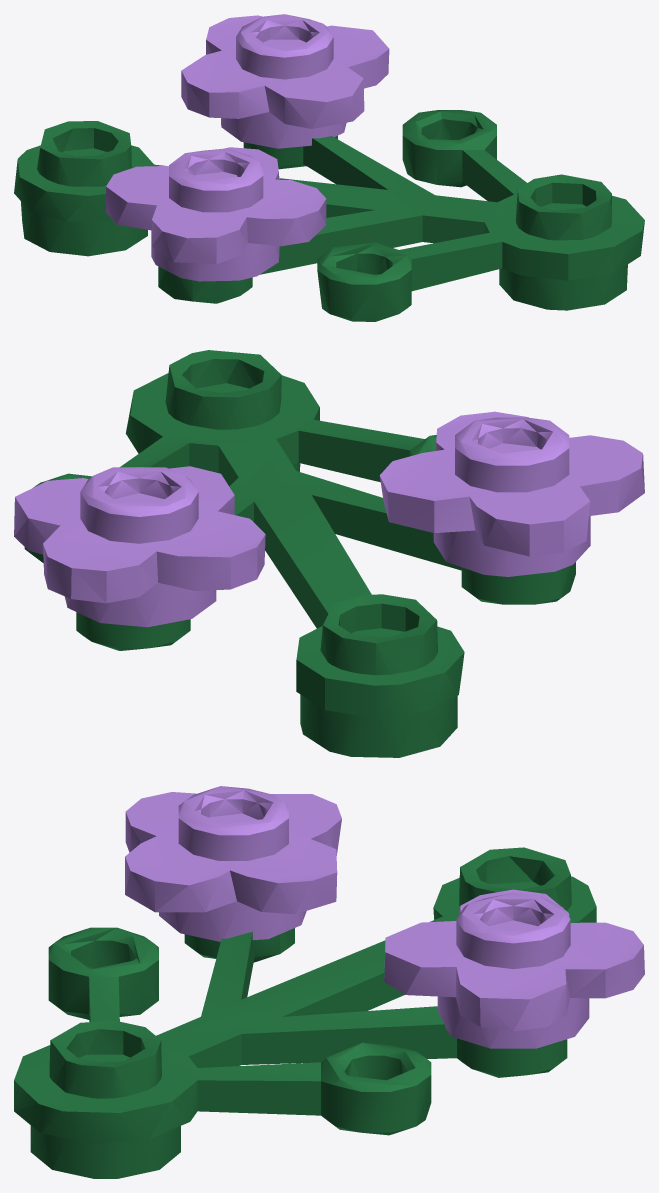
The model's file is frog_stem_a_purple.glb.
The picture shows the model from 3 angles, top to bottom: view 1: azimuth 30°, elevation 25°; view 2: azimuth 150°, elevation 25°; view 3: azimuth 270°, elevation 25°; orthographic projection. The views are drawn at different scales.
Visible parts, largest first — view 1: frog_stem_a_purple; view 2: frog_stem_a_purple; view 3: frog_stem_a_purple.
Boxes of the visible parts, left/top/right/bottom form: frog_stem_a_purple: left=14, top=14, right=644, bottom=321; frog_stem_a_purple: left=14, top=350, right=644, bottom=757; frog_stem_a_purple: left=14, top=786, right=644, bottom=1178.
Size of the model in its own units: 0.8873 by 0.2846 by 0.9399.
